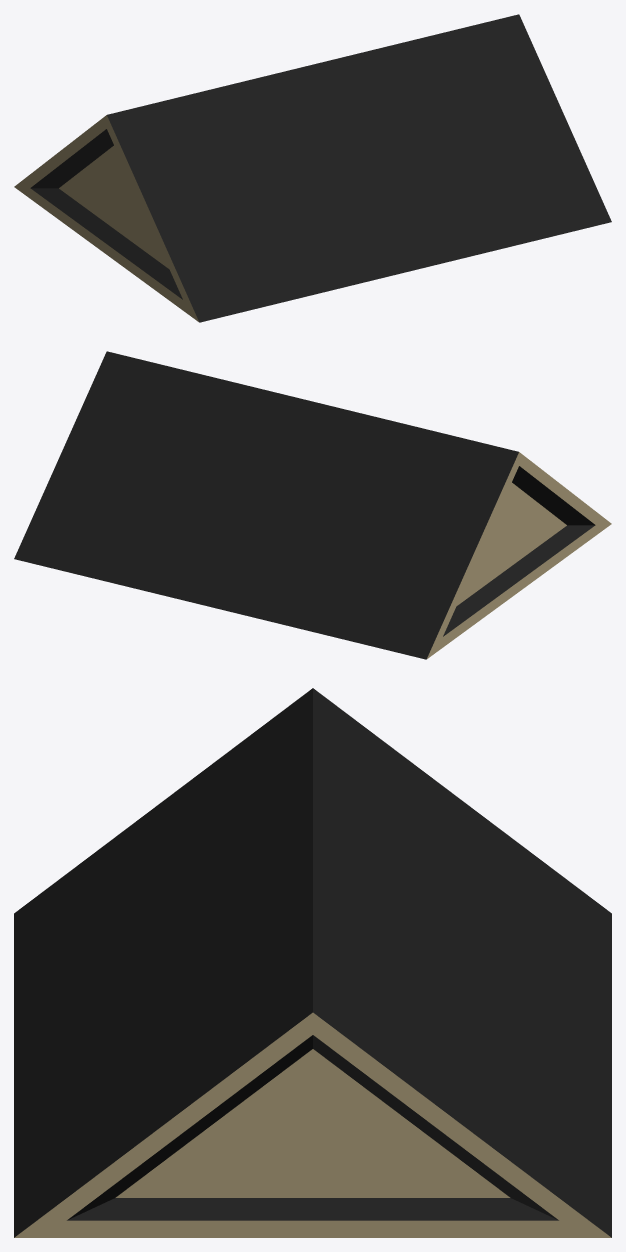
File: roof1.fbx
The picture shows the model from 3 angles, top to bottom: view 1: azimuth 30°, elevation 25°; view 2: azimuth 150°, elevation 25°; view 3: azimuth 270°, elevation 25°; orthographic projection. The views are drawn at different scales.
Parts seen in each view (by area): view 1: Cube.011; view 2: Cube.011; view 3: Cube.011.
Boxes of the visible parts, x1,y1,x2,y2 form: Cube.011: (14, 14, 611, 322); Cube.011: (14, 351, 611, 659); Cube.011: (14, 688, 611, 1237).
Bounding box in the file's own units: 1027 × 333 × 800.
